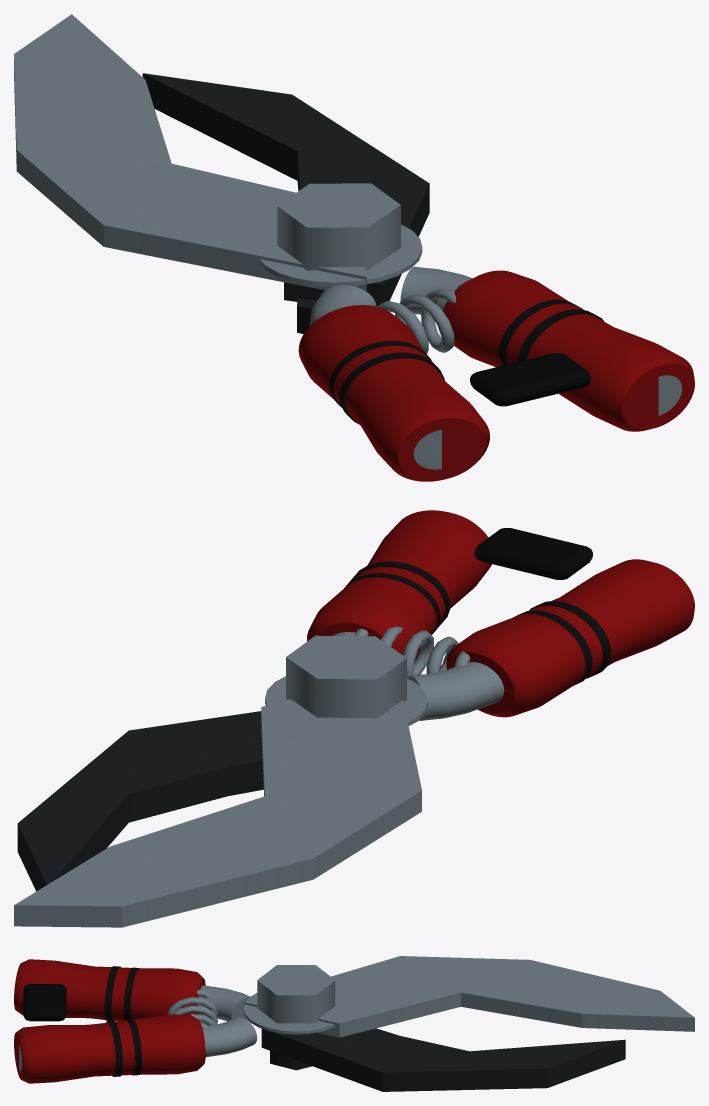
The model's file is BypassPruners.gltf.
The picture shows the model from 3 angles, top to bottom: view 1: azimuth 30°, elevation 25°; view 2: azimuth 150°, elevation 25°; view 3: azimuth 270°, elevation 25°; orthographic projection. The views are drawn at different scales.
Visible parts, largest first — view 1: BypassPruners__Body; view 2: BypassPruners__Body; view 3: BypassPruners__Body.
Part boxes in pixels (left/top/right/bottom): BypassPruners__Body: left=14, top=14, right=694, bottom=481; BypassPruners__Body: left=14, top=510, right=694, bottom=927; BypassPruners__Body: left=14, top=956, right=694, bottom=1091.
Size of the model in its own units: 0.0784 by 0.028 by 0.225.
1 material, 1 textured.
